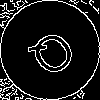Q: (25, 25, 86, 87)
